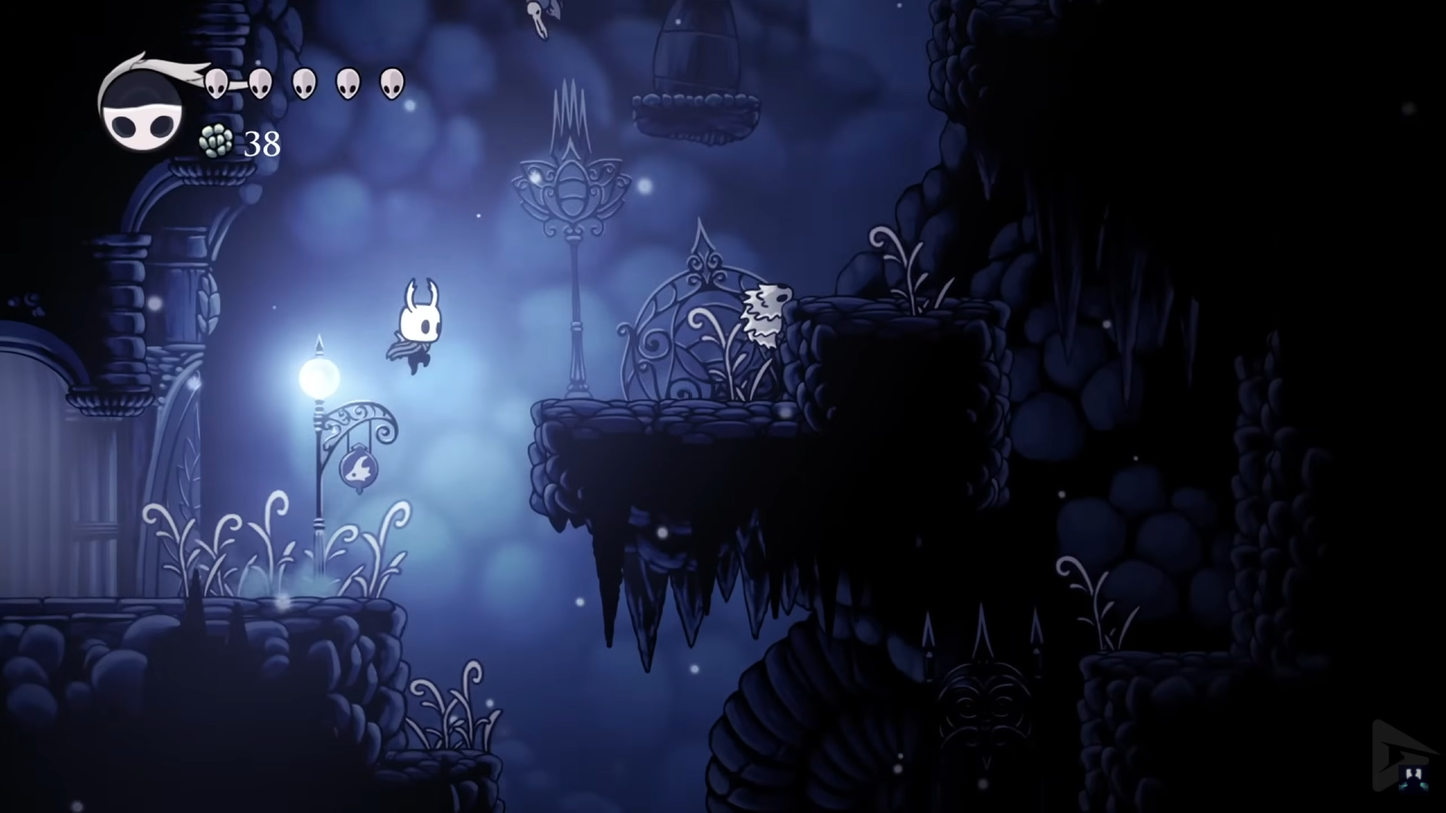HK: (389, 273, 446, 379)
